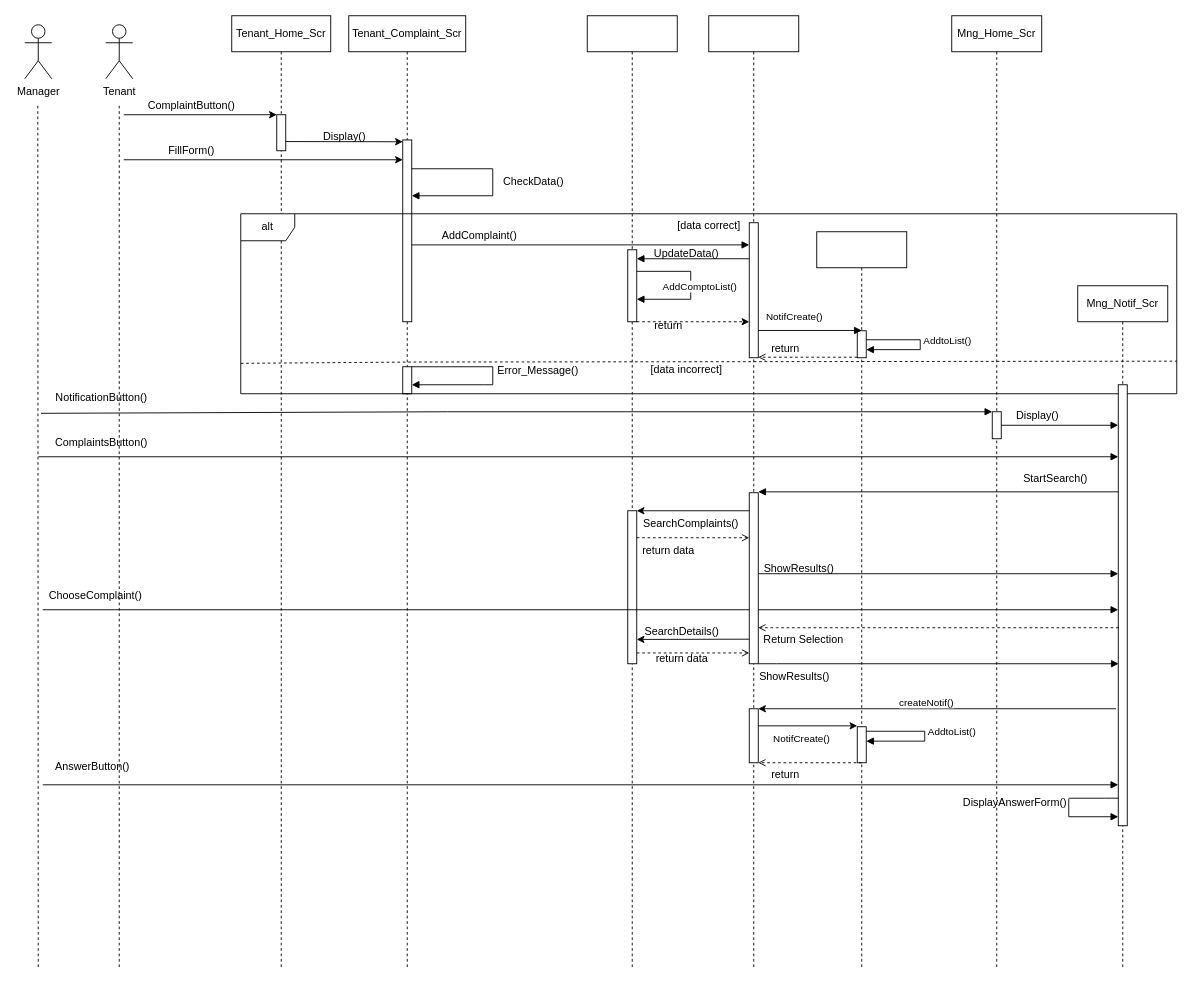
Some shapes in this 1193 by 986 pixel diagram are drawn without their labels. Here are the shapes that lost their labels. From the top down, the box of each, then its label:
(586, 15, 677, 970): :Complaint
(708, 15, 799, 970): Manage_ Compl_Class
(816, 231, 907, 970): :Notification
